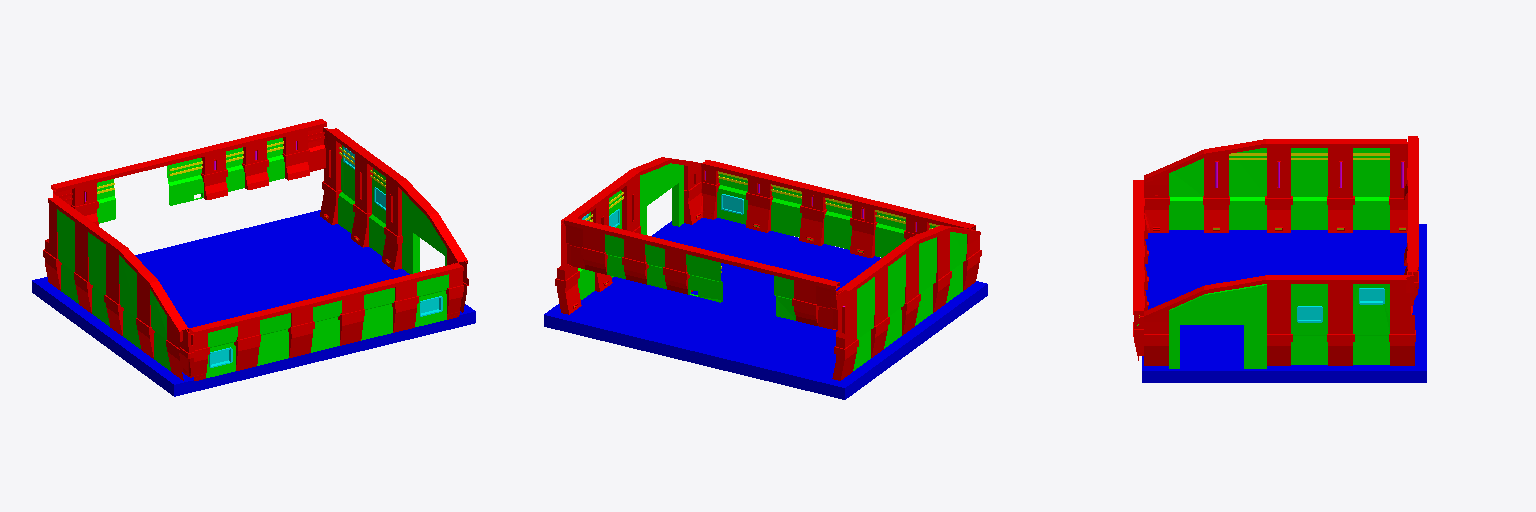
The model's file is walls_levelOne_jg.obj.
3 views of the same model, side by side, from view 1: azimuth 30°, elevation 25°; view 2: azimuth 150°, elevation 25°; view 3: azimuth 270°, elevation 25° (orthographic).
Visible parts, largest first — view 1: grp_innerWalls pCube126, grp_innerWalls group2 grp_wallSegment28_pCube105, grp_innerWalls grp_wallSegment28_pCube105 group1, grp_innerWalls grp_wallSegment17_pCube100, grp_innerWalls grp_wallSegment5 grp_wallSegment17_pCube99, grp_innerWalls pCube99 grp_wallSegment5, grp_innerWalls grp_wallSegment5 wall_test:pCube119, grp_innerWalls pCube99 grp_wallSegment4, grp_innerWalls grp_wallSegment21 pCube99, grp_innerWalls grp_wallSegment20 pCube99, grp_wallSegment7 grp_innerWalls pCube99, grp_innerWalls grp_wallSegment27 pCube99 (+20 smaller); view 2: grp_innerWalls pCube126, grp_innerWalls grp_wallSegment28_pCube105 group1, grp_innerWalls group2 grp_wallSegment28_pCube105, grp_innerWalls grp_wallSegment5 grp_wallSegment17_pCube99, grp_innerWalls grp_wallSegment5 wall_test:pCube119, grp_wallSegment7 grp_innerWalls pCube99, grp_innerWalls grp_wallSegment8 pCube99, grp_innerWalls grp_wallSegment20 pCube99, grp_innerWalls grp_wallSegment21 pCube99, grp_innerWalls grp_wallSegment11 pCube99, grp_innerWalls grp_wallSegment27 pCube99, grp_innerWalls grp_wallSegment17_pCube100 (+17 smaller); view 3: grp_innerWalls pCube126, grp_innerWalls grp_wallSegment5 wall_test:pCube119, grp_innerWalls group2 grp_wallSegment28_pCube105, grp_innerWalls pCube104 grp_wallSegment20, grp_innerWalls group1 pCube104, grp_innerWalls grp_wallSegment23 pCube119, grp_innerWalls grp_wallSegment5 grp_wallSegment17_pCube99, grp_innerWalls grp_wallSegment20 pCube99, grp_innerWalls pCube99 grp_wallSegment4, grp_innerWalls grp_wallSegment28_pCube105 group1, grp_innerWalls grp_wallSegment21 pCube99, grp_innerWalls group2 group6 pCube104 (+5 smaller).
Part boxes in pixels (bbox=[...]): grp_innerWalls pCube126: bbox=[32, 210, 475, 396]; grp_innerWalls group2 grp_wallSegment28_pCube105: bbox=[263, 119, 362, 224]; grp_innerWalls grp_wallSegment28_pCube105 group1: bbox=[43, 157, 171, 290]; grp_innerWalls grp_wallSegment17_pCube100: bbox=[136, 267, 237, 380]; grp_innerWalls grp_wallSegment5 grp_wallSegment17_pCube99: bbox=[414, 199, 468, 319]; grp_innerWalls pCube99 grp_wallSegment5: bbox=[382, 170, 424, 269]; grp_innerWalls grp_wallSegment5 wall_test:pCube119: bbox=[402, 191, 446, 273]; grp_innerWalls pCube99 grp_wallSegment4: bbox=[351, 148, 392, 247]; grp_innerWalls grp_wallSegment21 pCube99: bbox=[104, 238, 144, 335]; grp_innerWalls grp_wallSegment20 pCube99: bbox=[74, 216, 113, 313]; grp_wallSegment7 grp_innerWalls pCube99: bbox=[360, 274, 418, 332]; grp_innerWalls grp_wallSegment27 pCube99: bbox=[167, 143, 227, 199]; grp_innerWalls pCube126: bbox=[544, 218, 987, 399]; grp_innerWalls grp_wallSegment28_pCube105 group1: bbox=[719, 254, 875, 380]; grp_innerWalls group2 grp_wallSegment28_pCube105: bbox=[555, 202, 626, 314]; grp_innerWalls grp_wallSegment5 grp_wallSegment17_pCube99: bbox=[649, 157, 751, 224]; grp_innerWalls grp_wallSegment5 wall_test:pCube119: bbox=[640, 163, 683, 234]; grp_wallSegment7 grp_innerWalls pCube99: bbox=[746, 171, 805, 232]; grp_innerWalls grp_wallSegment8 pCube99: bbox=[799, 184, 858, 245]; grp_innerWalls grp_wallSegment20 pCube99: bbox=[866, 247, 906, 357]; grp_innerWalls grp_wallSegment21 pCube99: bbox=[898, 231, 936, 335]; grp_innerWalls grp_wallSegment11 pCube99: bbox=[820, 189, 878, 257]; grp_innerWalls grp_wallSegment27 pCube99: bbox=[663, 241, 723, 294]; grp_innerWalls grp_wallSegment17_pCube100: bbox=[927, 215, 981, 290]; grp_innerWalls pCube126: bbox=[1142, 224, 1426, 382]; grp_innerWalls grp_wallSegment5 wall_test:pCube119: bbox=[1169, 284, 1266, 368]; grp_innerWalls group2 grp_wallSegment28_pCube105: bbox=[1354, 240, 1418, 365]; grp_innerWalls pCube104 grp_wallSegment20: bbox=[1291, 148, 1327, 229]; grp_innerWalls group1 pCube104: bbox=[1353, 148, 1389, 229]; grp_innerWalls grp_wallSegment23 pCube119: bbox=[1229, 148, 1266, 229]; grp_innerWalls grp_wallSegment5 grp_wallSegment17_pCube99: bbox=[1133, 282, 1229, 365]; grp_innerWalls grp_wallSegment20 pCube99: bbox=[1292, 139, 1354, 232]; grp_innerWalls pCube99 grp_wallSegment4: bbox=[1292, 275, 1354, 365]; grp_innerWalls grp_wallSegment28_pCube105 group1: bbox=[1354, 136, 1418, 232]; grp_innerWalls grp_wallSegment21 pCube99: bbox=[1230, 139, 1292, 232]; grp_innerWalls group2 group6 pCube104: bbox=[1353, 284, 1389, 364].
Size of the model in its own units: 939 by 319 by 795.